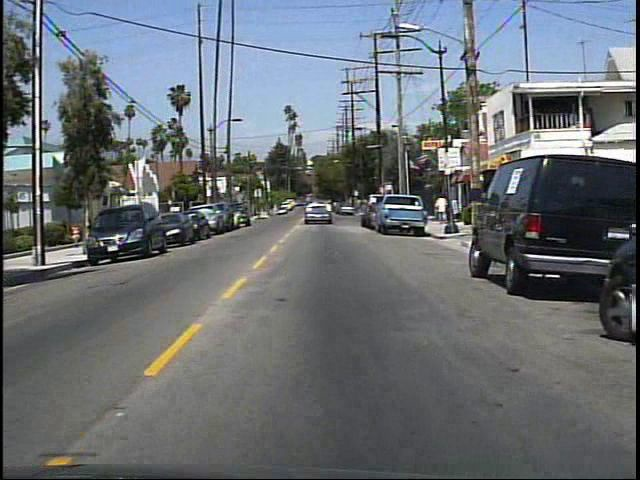person: (435, 193, 449, 228), (71, 219, 87, 246)
